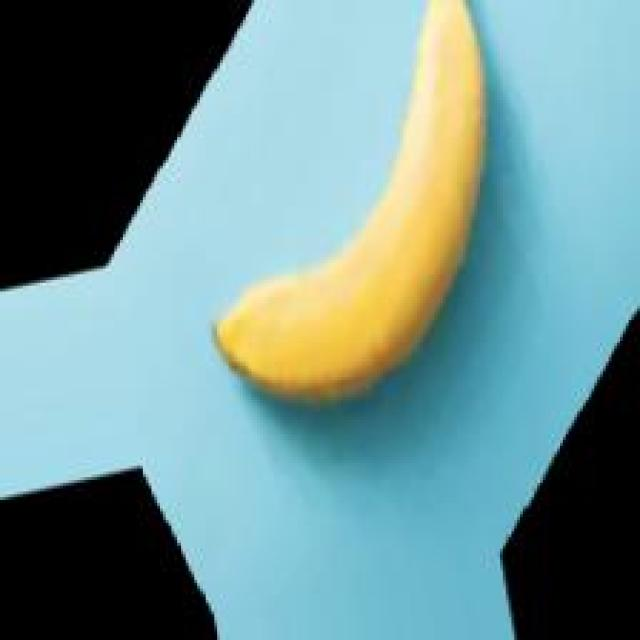bananas: (221, 6, 503, 429)
